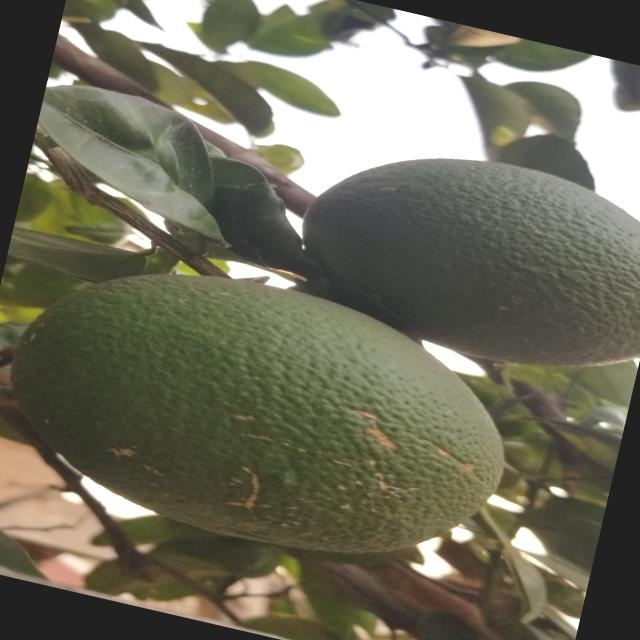agrume: (0, 220, 527, 589), (298, 125, 640, 388)
